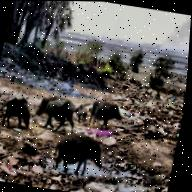boar: (51, 131, 109, 181), (29, 91, 83, 139), (82, 96, 132, 137), (0, 91, 40, 136)
